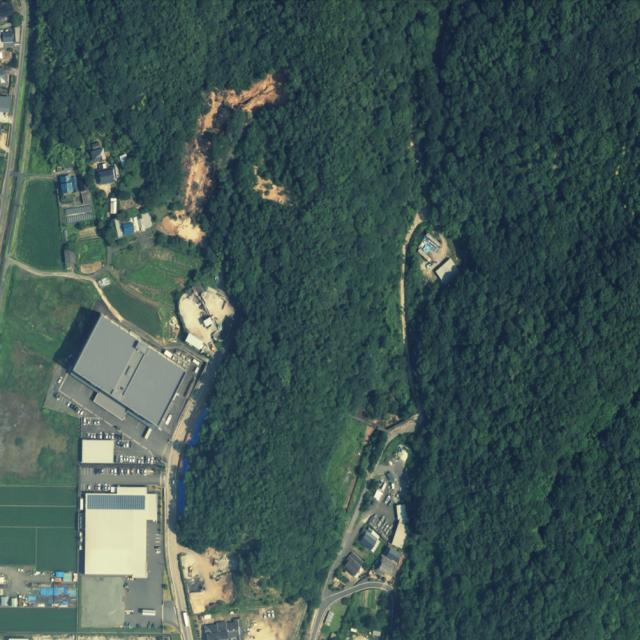landslide: (184, 74, 279, 213), (254, 165, 289, 204)
